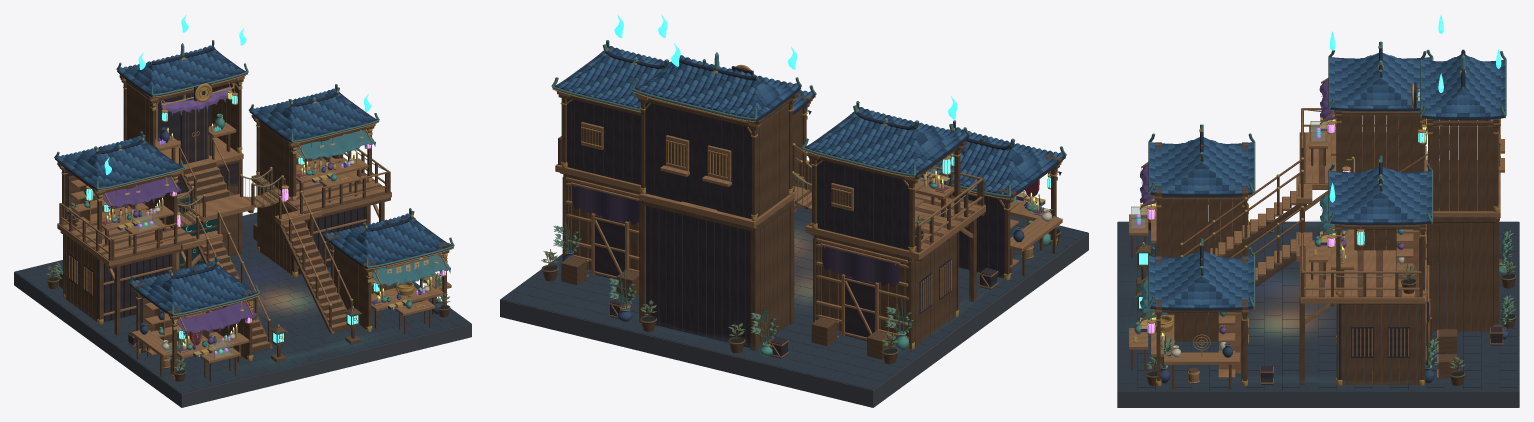
Rendered from ghost-stack-v13.glb.
3 renders of one model, left to right at view 1: azimuth 30°, elevation 25°; view 2: azimuth 150°, elevation 25°; view 3: azimuth 270°, elevation 25°, orthographic. The views are drawn at different scales.
Parts seen in each view (by area): view 1: SM_GS5_MAT_GS5_DarkTimber.004, SM_GS5_MAT_GS5_WoodTrim.004, SM_GS5_MAT_GS5_PavingWithBakedLanternPools.004, SM_GS5_MAT_GS5_DarkFoundation.004, SM_GS5_MAT_GS5_SourceGlazedBlueTile2, SM_GS5_MAT_GS5_SourceGlazedBlueTile3, SM_GS5_MAT_GS5_SourceGlazedBlueTile1, SM_GS5_MAT_GS5_InsetTimber.004, SM_GS5_MAT_GS5_SourceGlazedBlueTile0, SM_GS5_MAT_GS5_AgedBronze.004, SM_GS5_MAT_GS5_PurpleCloth.004, SM_GS5_MAT_GS5_TealCloth.004 (+14 smaller); view 2: SM_GS5_MAT_GS5_InsetTimber.004, SM_GS5_MAT_GS5_DarkTimber.004, SM_GS5_MAT_GS5_PavingWithBakedLanternPools.004, SM_GS5_MAT_GS5_WoodTrim.004, SM_GS5_MAT_GS5_DarkFoundation.004, SM_GS5_MAT_GS5_SourceGlazedBlueTile3, SM_GS5_MAT_GS5_SourceGlazedBlueTile2, SM_GS5_MAT_GS5_SourceGlazedBlueTile1, SM_GS5_MAT_GS5_SourceGlazedBlueTile0, SM_GS5_MAT_GS5_BackTornPurpleCloth.002, SM_GS5_MAT_GS5_AgedBronze.004, SM_GS5_MAT_GS5_Grout.004 (+6 smaller); view 3: SM_GS5_MAT_GS5_DarkTimber.004, SM_GS5_MAT_GS5_PavingWithBakedLanternPools.004, SM_GS5_MAT_GS5_WoodTrim.004, SM_GS5_MAT_GS5_SourceGlazedBlueTile0, SM_GS5_MAT_GS5_SourceGlazedBlueTile3, SM_GS5_MAT_GS5_SourceGlazedBlueTile1, SM_GS5_MAT_GS5_SourceGlazedBlueTile2, SM_GS5_MAT_GS5_DarkFoundation.004, SM_GS5_MAT_GS5_Grout.004, SM_GS5_MAT_GS5_AgedBronze.004, SM_GS5_MAT_GS5_InsetTimber.004, SM_GS5_MAT_GS5_AgedJadeRoofEdge.004 (+10 smaller).
Boxes of the visible parts, <box> form: SM_GS5_MAT_GS5_DarkTimber.004: <box>46,75,451,381</box>; SM_GS5_MAT_GS5_WoodTrim.004: <box>57,76,451,368</box>; SM_GS5_MAT_GS5_PavingWithBakedLanternPools.004: <box>15,212,470,393</box>; SM_GS5_MAT_GS5_DarkFoundation.004: <box>14,272,471,407</box>; SM_GS5_MAT_GS5_SourceGlazedBlueTile2: <box>58,48,445,313</box>; SM_GS5_MAT_GS5_SourceGlazedBlueTile3: <box>61,47,447,312</box>; SM_GS5_MAT_GS5_SourceGlazedBlueTile1: <box>57,49,449,313</box>; SM_GS5_MAT_GS5_InsetTimber.004: <box>65,83,365,352</box>; SM_GS5_MAT_GS5_SourceGlazedBlueTile0: <box>64,45,451,311</box>; SM_GS5_MAT_GS5_AgedBronze.004: <box>55,71,453,379</box>; SM_GS5_MAT_GS5_PurpleCloth.004: <box>102,138,381,352</box>; SM_GS5_MAT_GS5_TealCloth.004: <box>297,130,450,288</box>; SM_GS5_MAT_GS5_InsetTimber.004: <box>567,66,1004,358</box>; SM_GS5_MAT_GS5_DarkTimber.004: <box>541,91,1062,363</box>; SM_GS5_MAT_GS5_PavingWithBakedLanternPools.004: <box>501,206,1087,389</box>; SM_GS5_MAT_GS5_WoodTrim.004: <box>555,91,1062,358</box>; SM_GS5_MAT_GS5_DarkFoundation.004: <box>500,232,1088,407</box>; SM_GS5_MAT_GS5_SourceGlazedBlueTile3: <box>560,47,1057,193</box>; SM_GS5_MAT_GS5_SourceGlazedBlueTile2: <box>561,49,1059,194</box>; SM_GS5_MAT_GS5_SourceGlazedBlueTile1: <box>557,49,1063,194</box>; SM_GS5_MAT_GS5_SourceGlazedBlueTile0: <box>555,46,1053,192</box>; SM_GS5_MAT_GS5_BackTornPurpleCloth.002: <box>572,185,898,286</box>; SM_GS5_MAT_GS5_AgedBronze.004: <box>552,48,1065,349</box>; SM_GS5_MAT_GS5_Grout.004: <box>509,209,1085,386</box>; SM_GS5_MAT_GS5_DarkTimber.004: <box>1131,108,1516,389</box>; SM_GS5_MAT_GS5_PavingWithBakedLanternPools.004: <box>1118,221,1518,391</box>; SM_GS5_MAT_GS5_WoodTrim.004: <box>1129,78,1504,383</box>; SM_GS5_MAT_GS5_SourceGlazedBlueTile0: <box>1149,53,1505,307</box>; SM_GS5_MAT_GS5_SourceGlazedBlueTile3: <box>1149,54,1505,308</box>; SM_GS5_MAT_GS5_SourceGlazedBlueTile1: <box>1149,55,1505,308</box>; SM_GS5_MAT_GS5_SourceGlazedBlueTile2: <box>1149,55,1505,308</box>; SM_GS5_MAT_GS5_DarkFoundation.004: <box>1117,222,1519,407</box>; SM_GS5_MAT_GS5_Grout.004: <box>1119,222,1517,390</box>; SM_GS5_MAT_GS5_AgedBronze.004: <box>1131,45,1506,386</box>; SM_GS5_MAT_GS5_InsetTimber.004: <box>1242,82,1502,384</box>; SM_GS5_MAT_GS5_AgedJadeRoofEdge.004: <box>1148,41,1506,307</box>.
Size of the model in its own units: 10 by 7.83 by 10.
57 materials, 9 textured.
